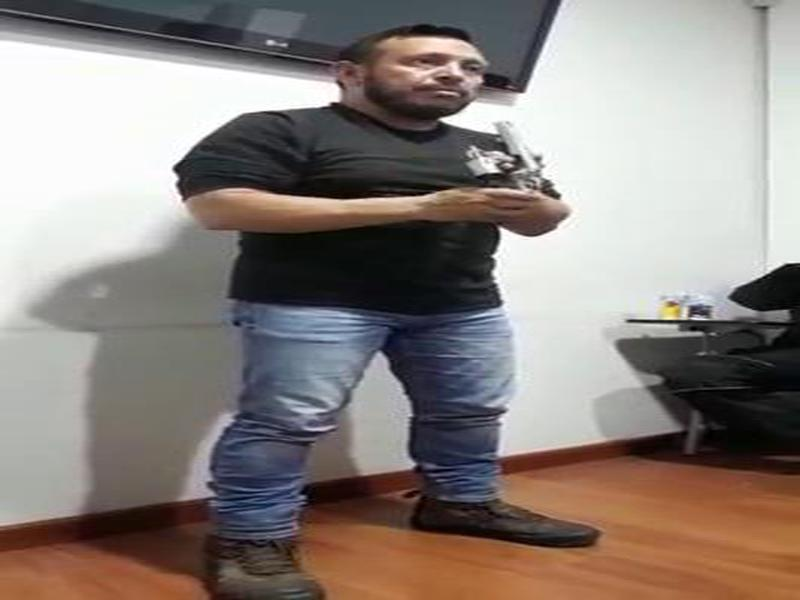Revolver: (460, 100, 568, 232)
